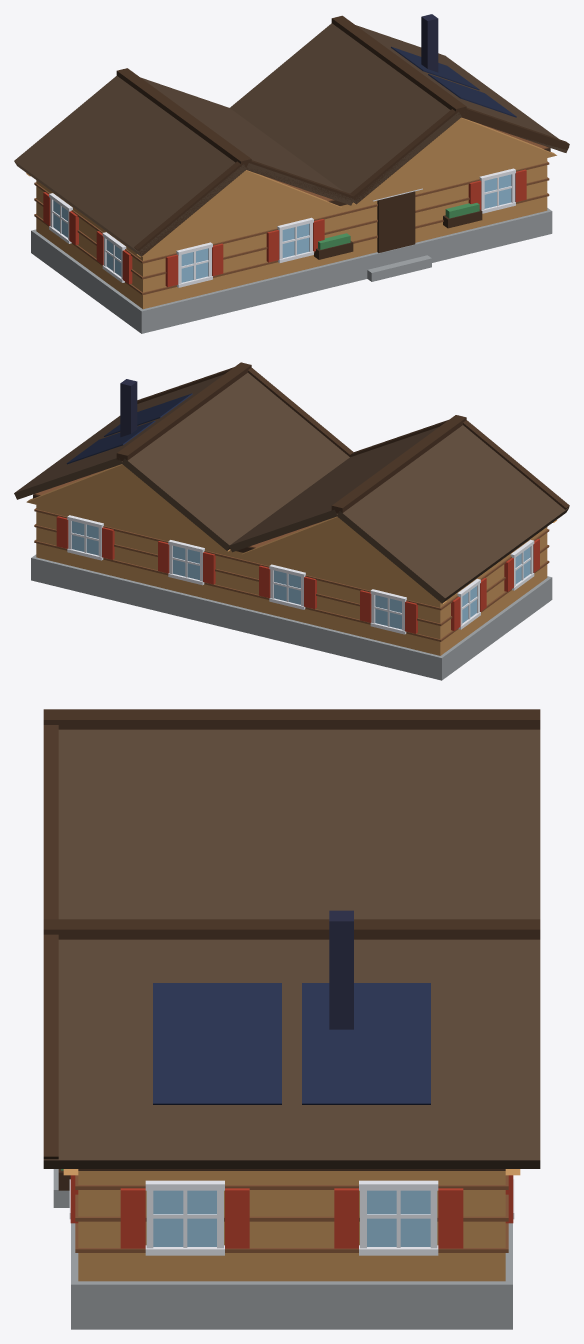
Rendered from house-2x1-1f-chalet-a-solar.glb.
3 views of the same model, one above another, from view 1: azimuth 30°, elevation 25°; view 2: azimuth 150°, elevation 25°; view 3: azimuth 270°, elevation 25° (orthographic). The views are drawn at different scales.
Visible parts, largest first — view 1: house-2x1-1f-chalet-a-solar; view 2: house-2x1-1f-chalet-a-solar; view 3: house-2x1-1f-chalet-a-solar.
Boxes of the visible parts, left/top/right/bottom form: house-2x1-1f-chalet-a-solar: left=14, top=14, right=569, bottom=333; house-2x1-1f-chalet-a-solar: left=14, top=362, right=569, bottom=680; house-2x1-1f-chalet-a-solar: left=43, top=709, right=540, bottom=1329.
Bounding box in the file's own units: 2.01 × 0.8 × 1.
Materials: 1 (1 with a texture image).
